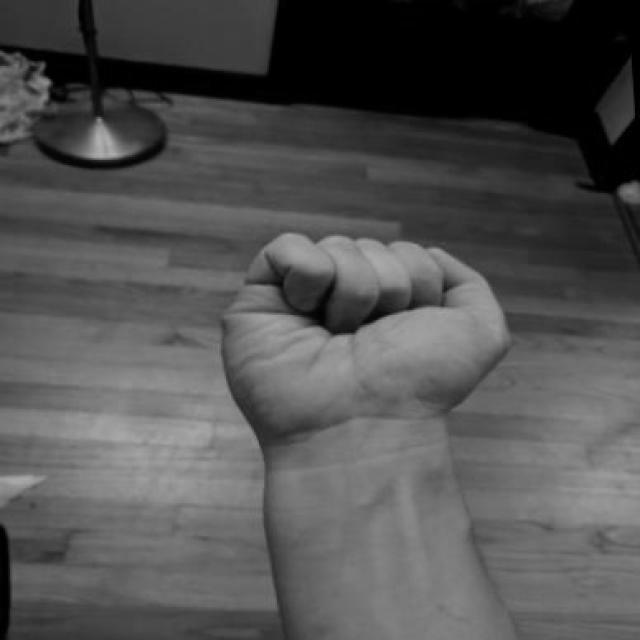A: (202, 211, 529, 457)
